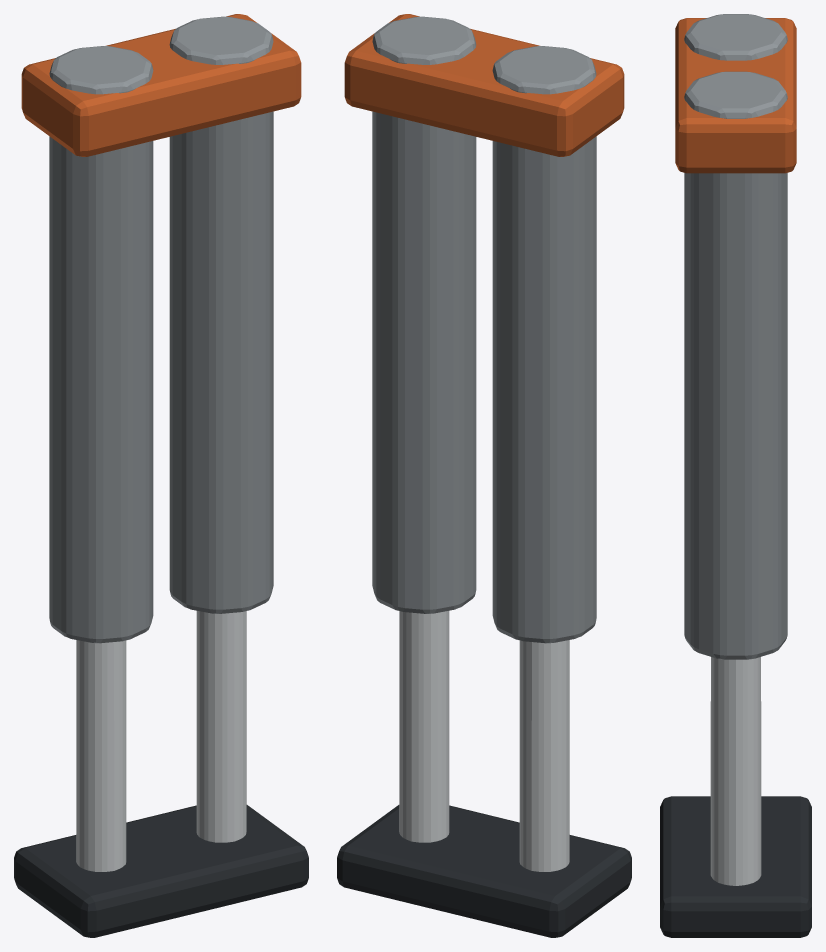
Rendered from struts.glb.
The picture shows the model from 3 angles, left to right: view 1: azimuth 30°, elevation 25°; view 2: azimuth 150°, elevation 25°; view 3: azimuth 270°, elevation 25°; orthographic projection.
Parts seen in each view (by area): view 1: cyl0, cyl1, foot, clamp, rod1, rod0; view 2: cyl0, cyl1, foot, clamp, rod1, rod0; view 3: cyl1, foot, clamp, rod1, cyl0.
Part boxes in pixels (box(x1,y1,x2,y2)): cyl0: box(49, 46, 153, 643); cyl1: box(169, 16, 273, 613); foot: box(14, 805, 308, 937); clamp: box(21, 14, 301, 156); rod1: box(196, 611, 246, 842); rod0: box(76, 640, 126, 871); cyl0: box(492, 46, 596, 643); cyl1: box(372, 16, 476, 613); foot: box(337, 805, 631, 937); clamp: box(344, 14, 624, 156); rod1: box(399, 611, 449, 842); rod0: box(519, 640, 569, 871); cyl1: box(684, 71, 787, 659); foot: box(660, 796, 811, 937); clamp: box(675, 18, 796, 173); rod1: box(710, 657, 761, 885); cyl0: box(684, 14, 787, 60).
Bounding box in the file's own units: 0.34 × 1.2 × 0.2.
